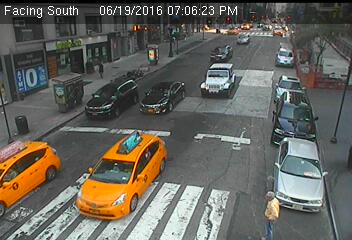neg: (209, 22, 226, 46), (121, 34, 136, 54), (152, 35, 160, 46)
pos: (254, 186, 293, 238), (91, 58, 110, 83)
